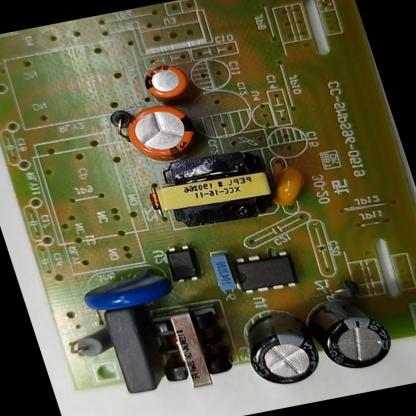Cap1: (114, 96, 208, 169)
Cap2: (126, 53, 201, 111)
Cap3: (225, 297, 333, 394)
Cap4: (295, 288, 406, 380)
MOSFET: (223, 244, 304, 300)
Mov: (70, 256, 186, 317)
Resistor: (57, 321, 122, 364)
Transformer: (139, 141, 291, 238), (136, 297, 249, 398)
